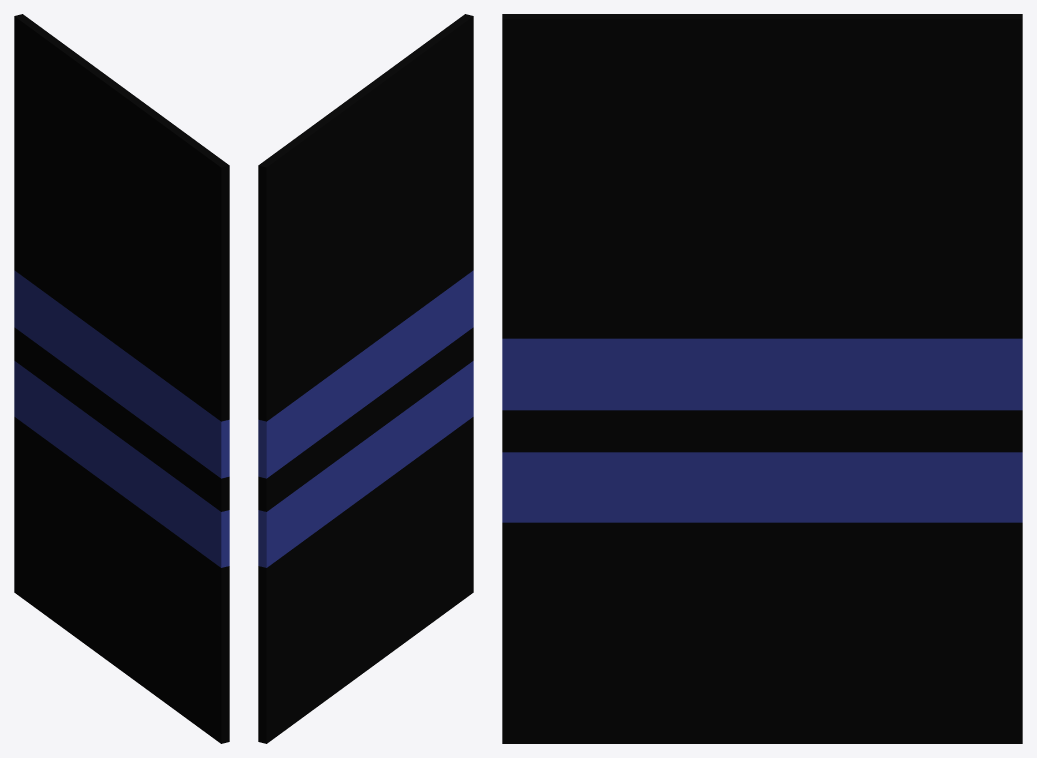
File: Wall sector 1 base.fbx
3 views of the same model, side by side, from view 1: azimuth 30°, elevation 25°; view 2: azimuth 150°, elevation 25°; view 3: azimuth 270°, elevation 25° (orthographic). The views are drawn at different scales.
Visible parts, largest first — view 1: Body3, Body5, Body2, Body4, Body6, Body1; view 2: Body3, Body5, Body2, Body4, Body6, Body1; view 3: Body3, Body5, Body2, Body4, Body6, Body1.
Part boxes in pixels (<box>): Body3: <box>14,14,229,421</box>; Body5: <box>14,417,229,743</box>; Body2: <box>14,361,229,567</box>; Body4: <box>14,287,229,478</box>; Body6: <box>14,327,229,511</box>; Body1: <box>14,270,229,438</box>; Body3: <box>258,14,473,421</box>; Body5: <box>258,417,473,743</box>; Body2: <box>258,361,473,567</box>; Body4: <box>258,287,473,478</box>; Body6: <box>258,327,473,511</box>; Body1: <box>258,270,473,438</box>; Body3: <box>502,14,1022,338</box>; Body5: <box>502,522,1022,743</box>; Body2: <box>502,452,1022,522</box>; Body4: <box>502,359,1022,410</box>; Body6: <box>502,410,1022,452</box>; Body1: <box>502,338,1022,359</box>.
Bounding box in the file's own units: 0.2 × 12.99 × 8.46.
